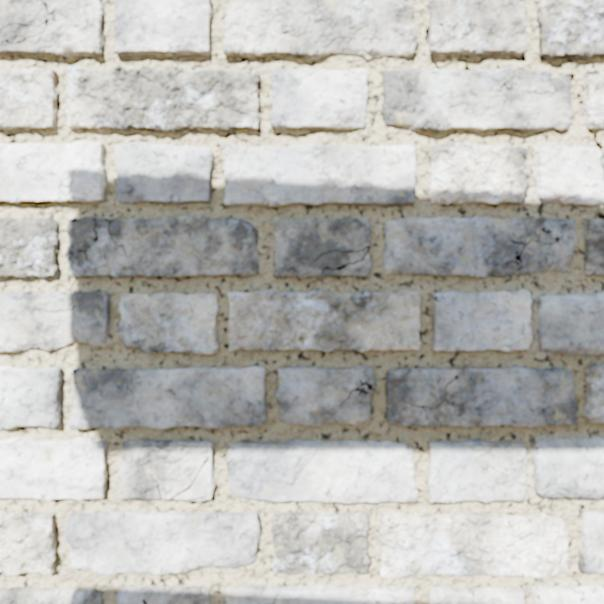brick: (65, 66, 260, 131), (379, 512, 568, 578), (381, 66, 572, 131), (65, 511, 260, 574), (223, 143, 415, 206), (69, 367, 266, 428), (227, 440, 416, 502), (65, 216, 257, 277), (229, 290, 420, 351), (384, 217, 576, 277), (223, 0, 417, 59), (386, 367, 577, 426), (0, 438, 106, 499), (0, 291, 109, 350), (0, 142, 105, 202), (428, 142, 528, 204), (428, 439, 526, 502), (272, 512, 370, 574), (119, 292, 217, 353), (433, 290, 531, 350), (276, 366, 375, 425), (0, 0, 104, 56), (116, 143, 213, 203), (118, 440, 215, 499), (274, 217, 371, 276), (271, 69, 367, 128), (429, 0, 526, 56), (114, 0, 212, 55), (537, 0, 603, 60), (0, 367, 62, 428), (0, 511, 55, 576), (0, 218, 59, 278), (0, 68, 58, 128), (227, 585, 414, 603), (428, 585, 523, 603), (0, 587, 102, 603), (117, 586, 209, 603), (578, 512, 603, 573), (0, 0, 51, 27), (584, 69, 603, 128), (584, 363, 603, 422), (584, 220, 603, 275), (0, 25, 43, 41)
broken_brick: (532, 437, 603, 499), (535, 144, 603, 206), (537, 291, 603, 354), (533, 586, 603, 603)
crack: (0, 0, 57, 45), (170, 455, 209, 499), (312, 245, 370, 273), (340, 378, 375, 406), (103, 218, 127, 258), (77, 218, 98, 262), (586, 128, 603, 181), (430, 55, 472, 71), (563, 73, 584, 105), (148, 473, 162, 499), (257, 592, 279, 603), (412, 0, 425, 18), (380, 520, 400, 530), (182, 495, 207, 502), (424, 28, 430, 45), (593, 581, 603, 588), (433, 292, 439, 302), (597, 211, 603, 219), (599, 196, 603, 206), (141, 598, 147, 603), (222, 144, 227, 149)
